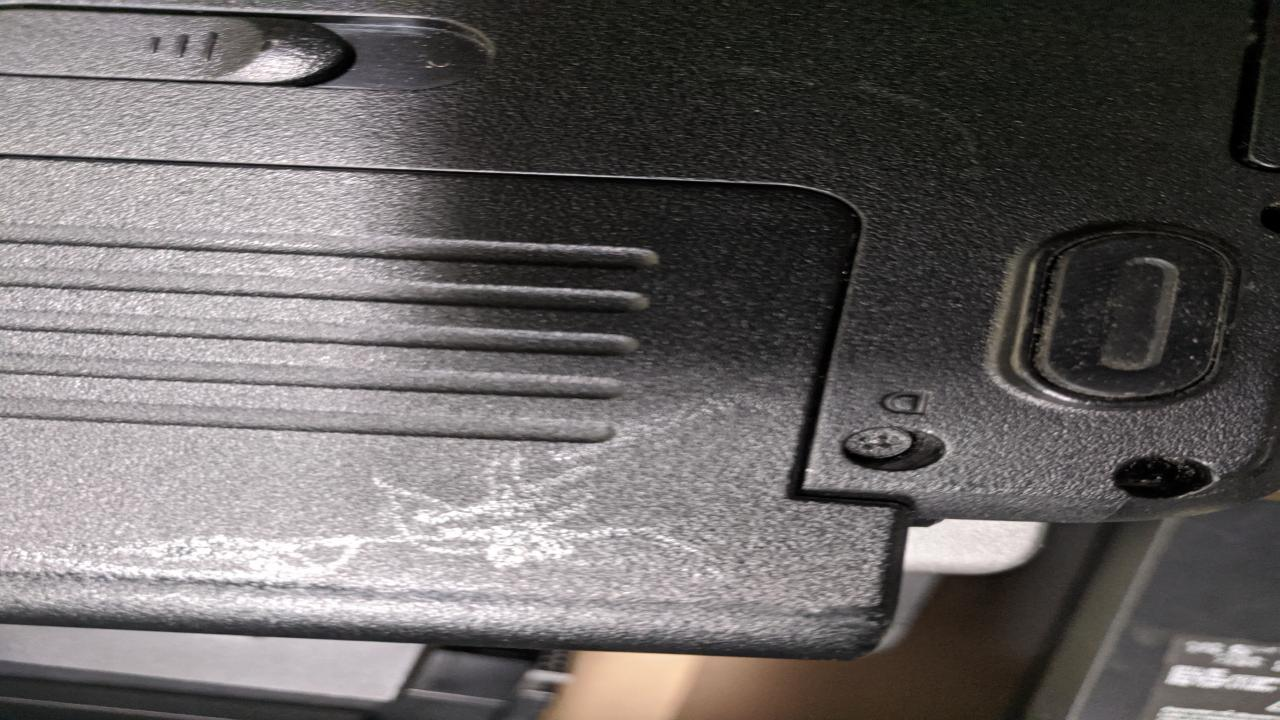CRS: (833, 423, 928, 465), (1116, 457, 1191, 494)
